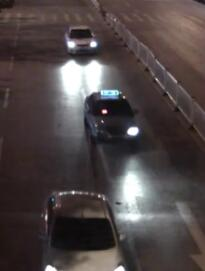car: (38, 189, 129, 269), (82, 88, 141, 148), (62, 24, 100, 57)
